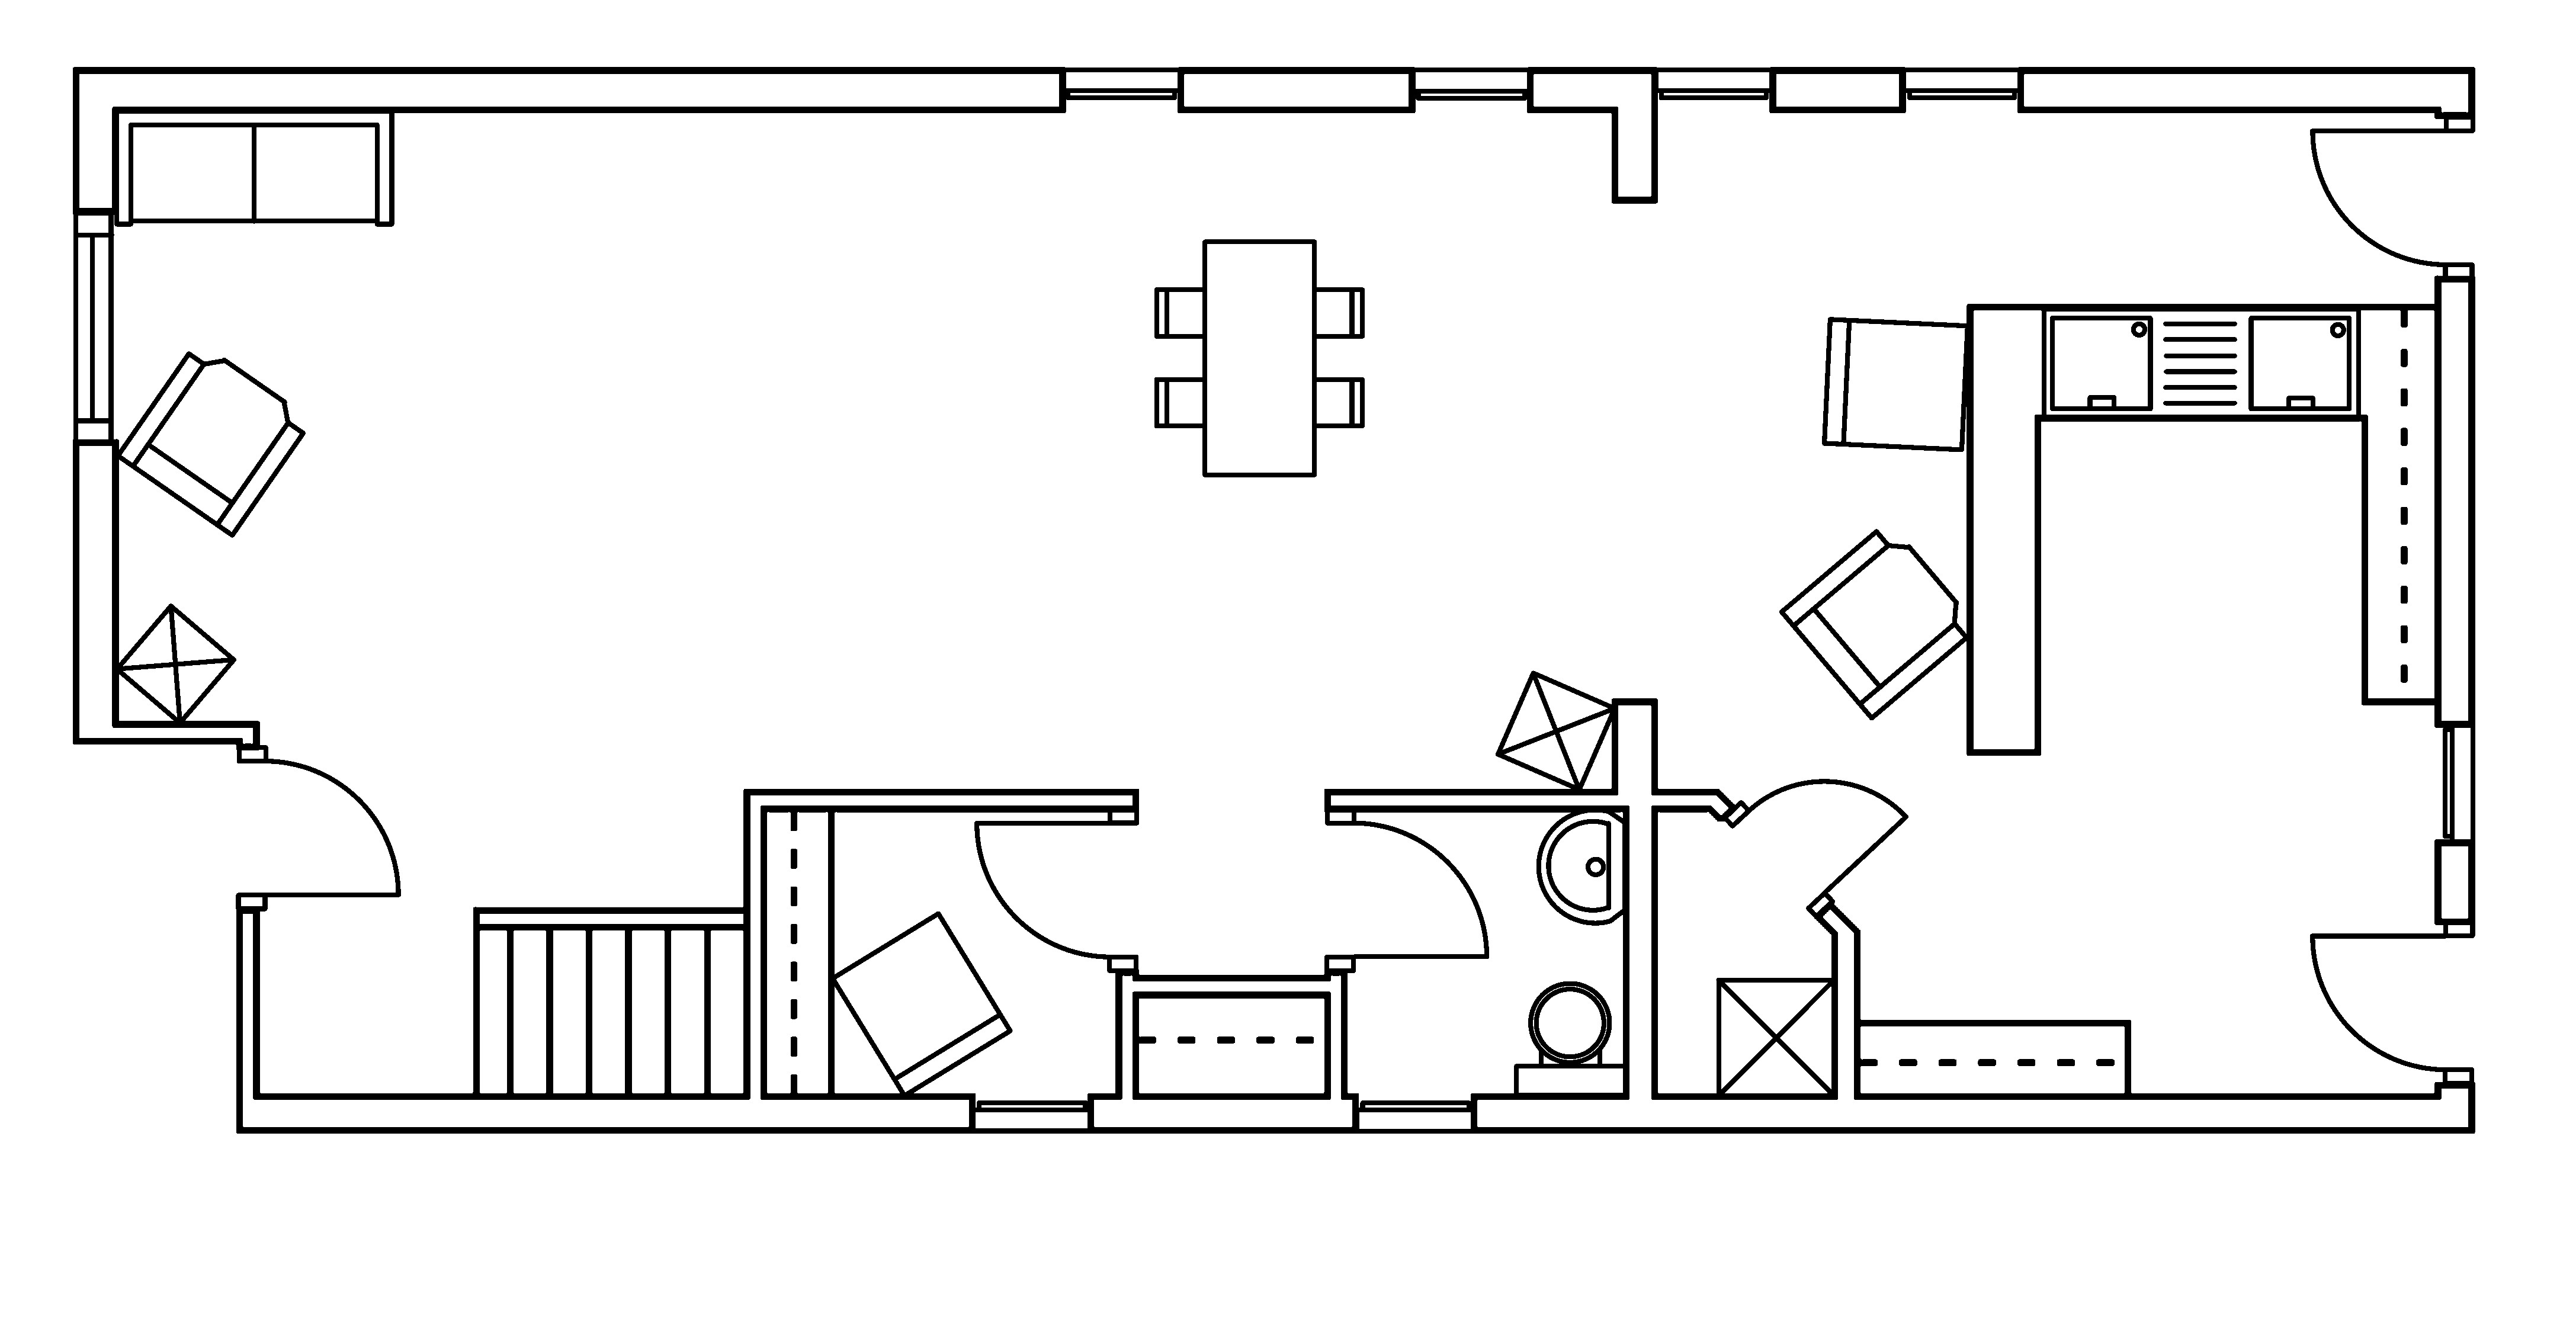armchair: (1777, 528, 1969, 720), (114, 350, 306, 538)
coffee_table: (1493, 670, 1618, 792), (113, 602, 237, 725), (1715, 976, 1836, 1099)
dining_table: (1153, 239, 1365, 478)
large_sink: (1513, 981, 1628, 1097)
large_sofa: (113, 108, 395, 227)
small_sink: (1535, 808, 1628, 925)
small_sofa: (829, 910, 1012, 1099), (1821, 316, 1971, 453)
twin_sink: (2040, 305, 2361, 421)
